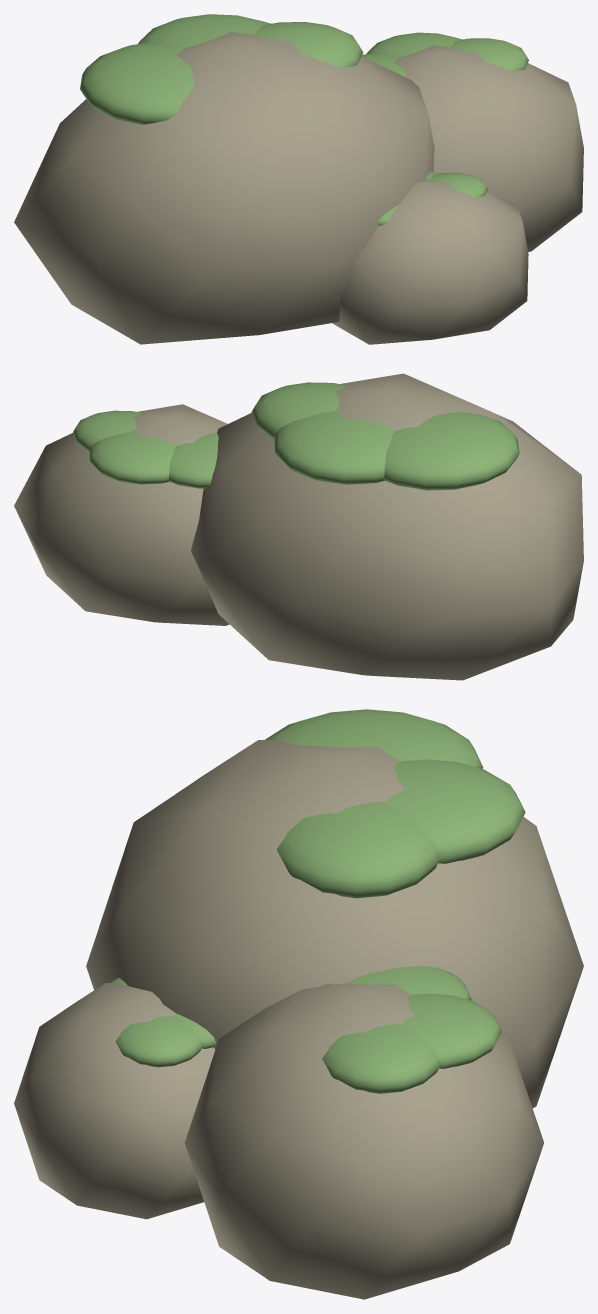
File: rock_cluster.glb
3 renders of one model, top to bottom at view 1: azimuth 30°, elevation 25°; view 2: azimuth 150°, elevation 25°; view 3: azimuth 270°, elevation 25°, orthographic. The views are drawn at different scales.
Parts seen in each view (by area): view 1: rock_cluster; view 2: rock_cluster; view 3: rock_cluster.
Part boxes in pixels (bbox=[...]): rock_cluster: bbox=[14, 14, 583, 344]; rock_cluster: bbox=[14, 373, 583, 680]; rock_cluster: bbox=[14, 709, 583, 1299].
Size of the model in its own units: 1.45 by 0.6367 by 0.9686.
1 material, 1 textured.
